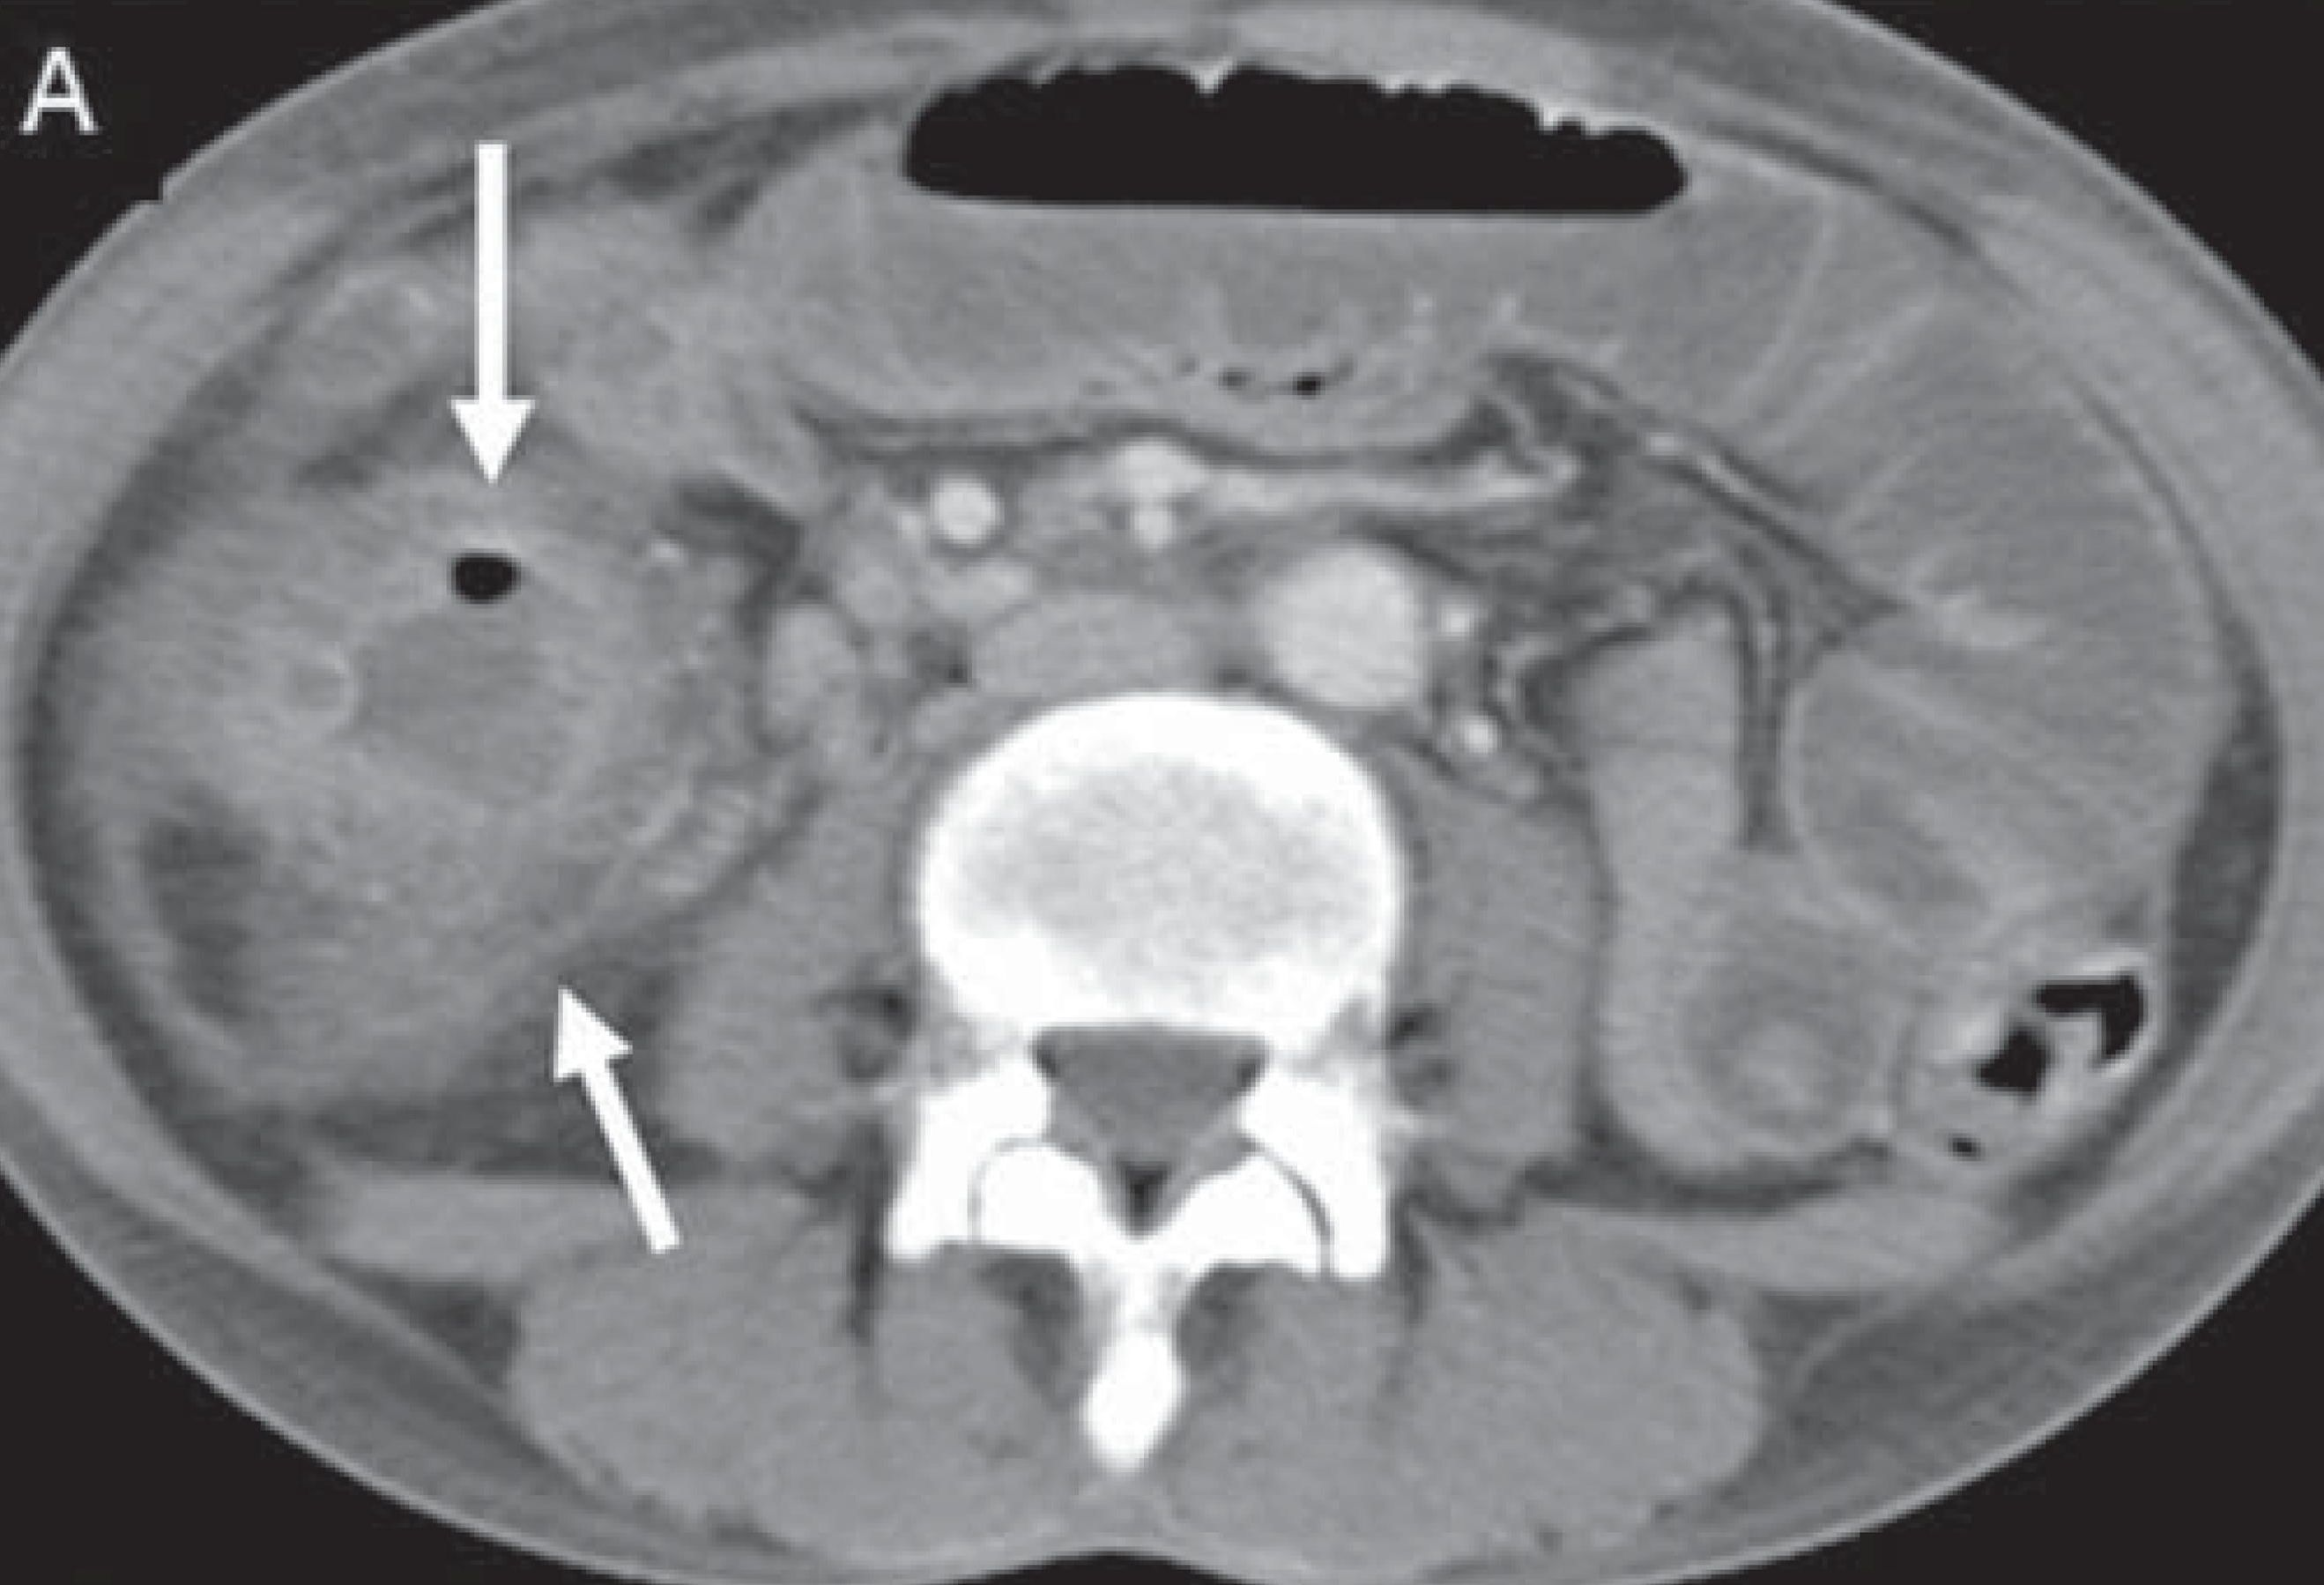anomaly: (279, 581, 627, 850)
